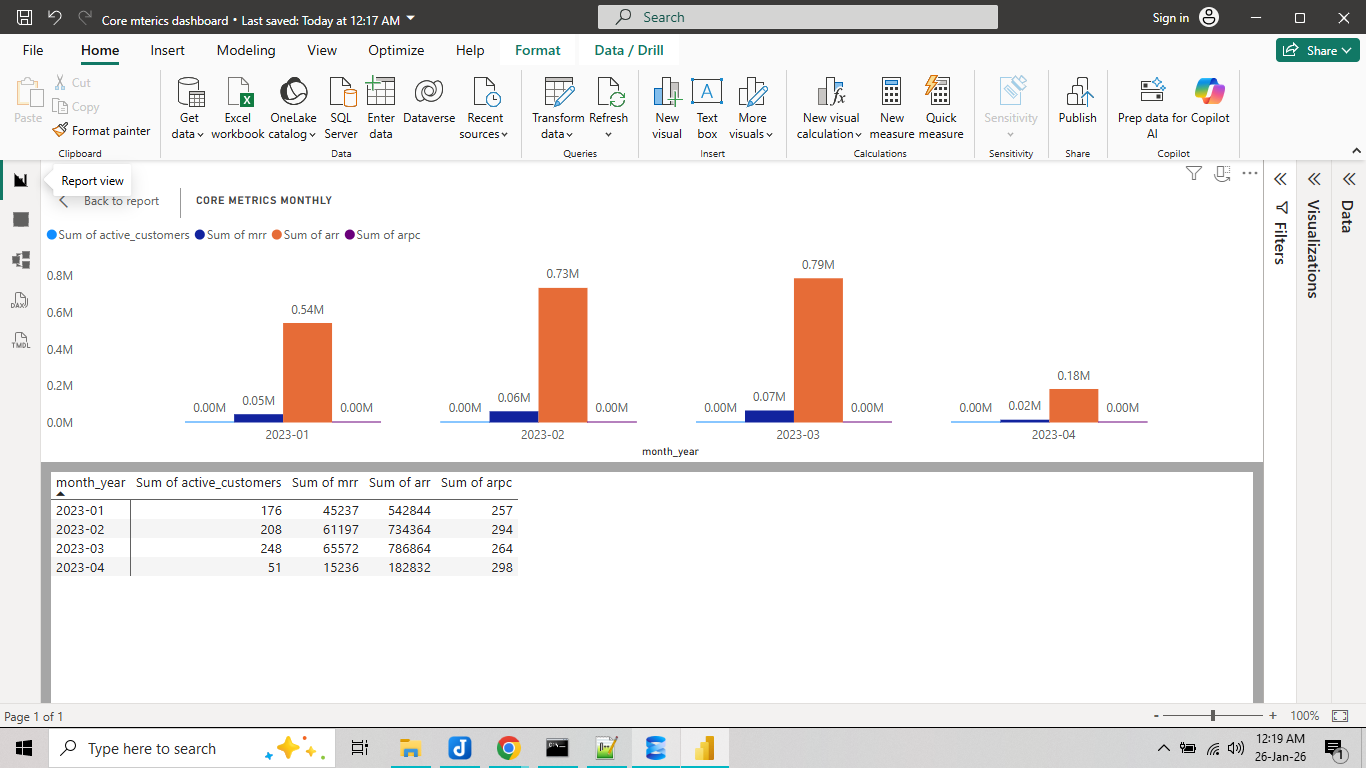

The dashboard page shown, as its layout file describes it:
{"tool":"powerbi","page":{"name":"Core Metrics Monthly","canvas":[1280,720],"ordinal":0},"visuals":[{"type":"clusteredColumnChart","title":"CORE METRICS MONTHLY","fields":{"Category":["core_metrics_bymonth.month_year"],"Y":["Sum(core_metrics_bymonth.active_customers)","Sum(core_metrics_bymonth.mrr)","Sum(core_metrics_bymonth.arr)","Sum(core_metrics_bymonth.arpc)"]},"box":[10,0,1269.9,720.6],"z":0}]}

Visuals, with their boxes on the page's 1280x720 design canvas (x1, y1, x2, y2). These are canvas units, not pixel positions in the 1366x768 screenshot, which may show the page scaled, cropped or inside an application window:
"CORE METRICS MONTHLY" clusteredColumnChart: l=10, t=0, r=1280, b=721
